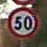limite 50: (6, 6, 39, 38)
